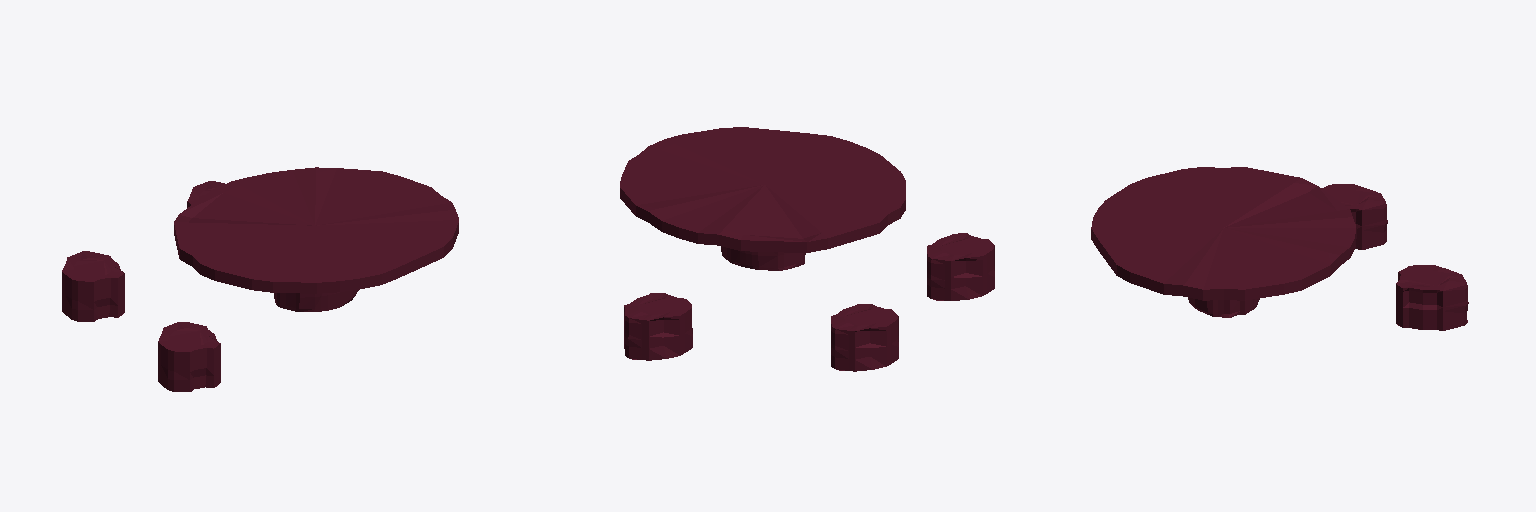
File: stone_table_chairs.obj
3 views of the same model, side by side, from view 1: azimuth 30°, elevation 25°; view 2: azimuth 150°, elevation 25°; view 3: azimuth 270°, elevation 25° (orthographic).
Visible parts, largest first — view 1: gym_stone_table gym_Stone_table_Stone_chair, gym_Stone_table_Stone_chair gym_stone_chair1, gym_Stone_table_Stone_chair gym_stone_chair4; view 2: gym_stone_table gym_Stone_table_Stone_chair, gym_Stone_table_Stone_chair gym_stone_chair5, gym_Stone_table_Stone_chair gym_stone_chair4, gym_Stone_table_Stone_chair gym_stone_chair1; view 3: gym_stone_table gym_Stone_table_Stone_chair, gym_Stone_table_Stone_chair gym_stone_chair5, gym_Stone_table_Stone_chair gym_stone_chair1.
Boxes of the visible parts, <box> form: gym_stone_table gym_Stone_table_Stone_chair: <box>174,167,458,311</box>; gym_Stone_table_Stone_chair gym_stone_chair1: <box>62,251,124,321</box>; gym_Stone_table_Stone_chair gym_stone_chair4: <box>158,322,220,391</box>; gym_stone_table gym_Stone_table_Stone_chair: <box>620,127,905,270</box>; gym_Stone_table_Stone_chair gym_stone_chair5: <box>624,293,692,360</box>; gym_Stone_table_Stone_chair gym_stone_chair4: <box>927,233,994,300</box>; gym_Stone_table_Stone_chair gym_stone_chair1: <box>831,304,898,371</box>; gym_stone_table gym_Stone_table_Stone_chair: <box>1091,167,1356,317</box>; gym_Stone_table_Stone_chair gym_stone_chair5: <box>1396,265,1468,330</box>; gym_Stone_table_Stone_chair gym_stone_chair1: <box>1322,184,1387,249</box>.
Size of the model in its own units: 12.94 by 3.53 by 13.42.